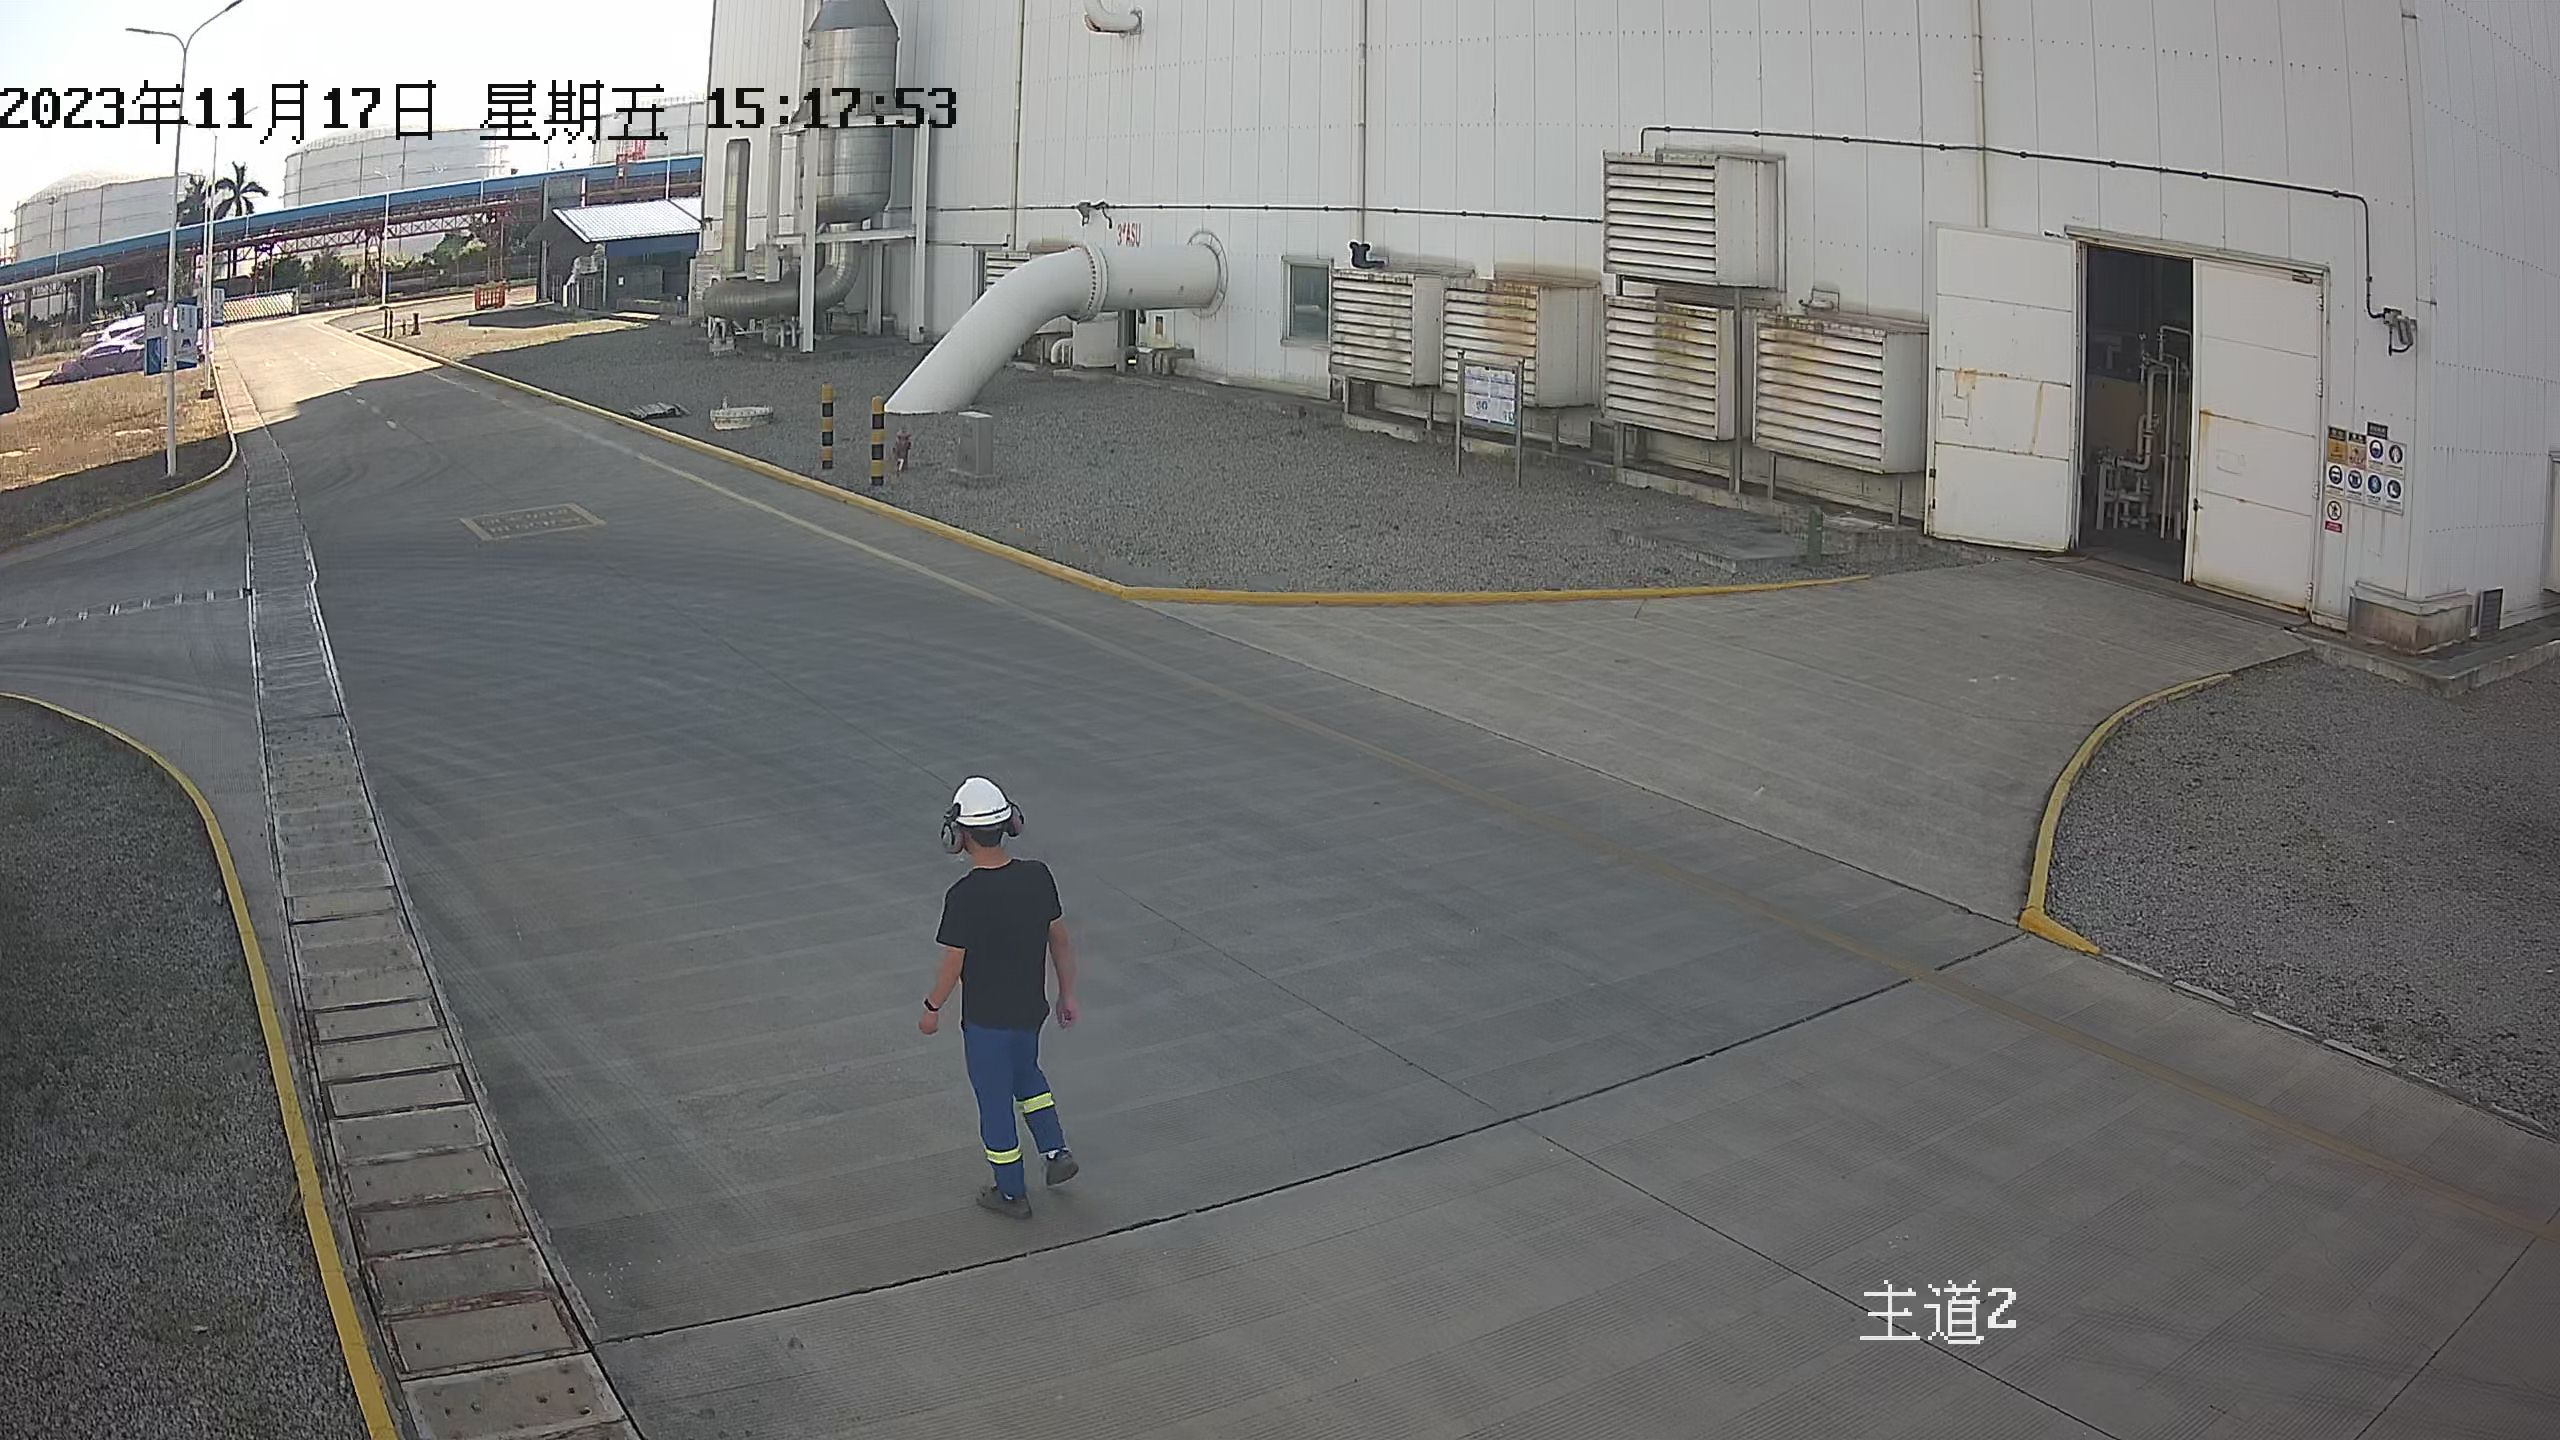Body_without_uniform: (848, 847, 1140, 1232)
Head_with_Helmet: (885, 749, 1055, 873)
